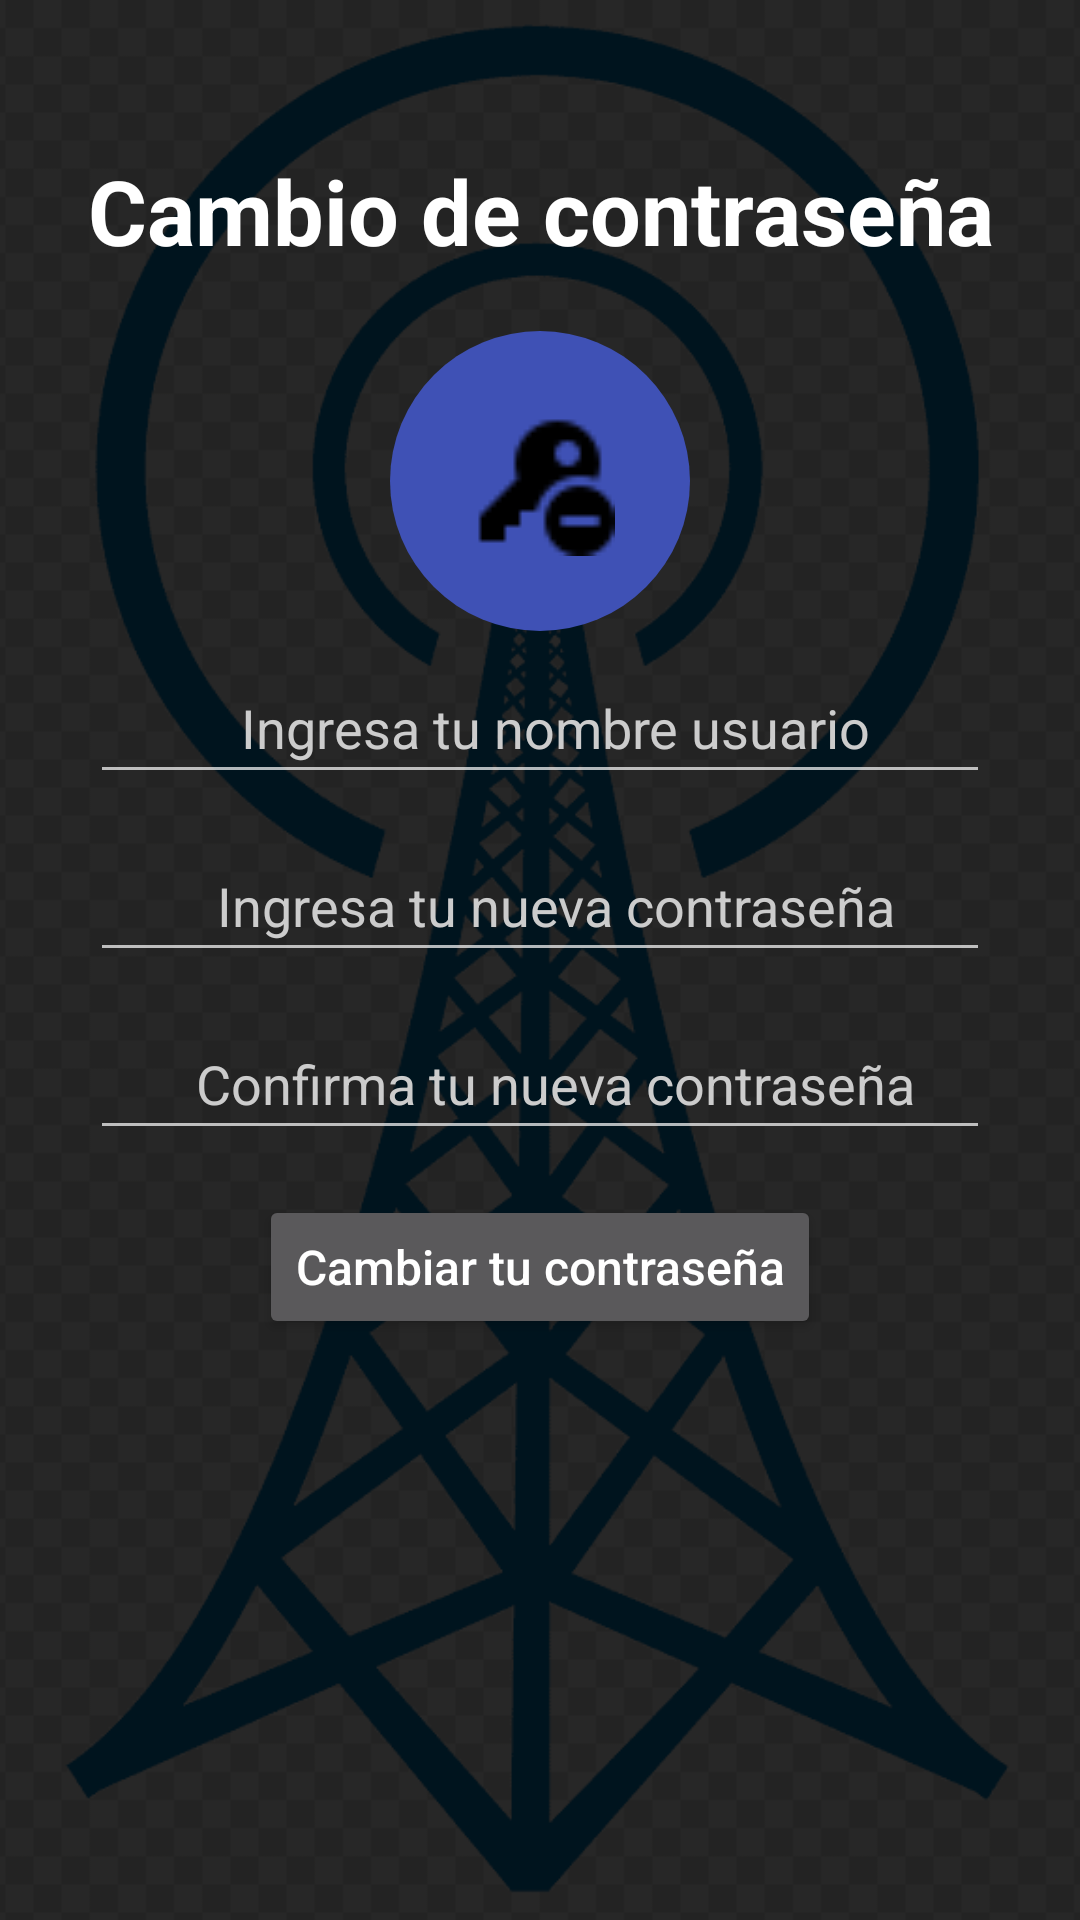

Where to tap for icons on this 1080x1920 app screen, as (x,y):
key pass: (546,487)
